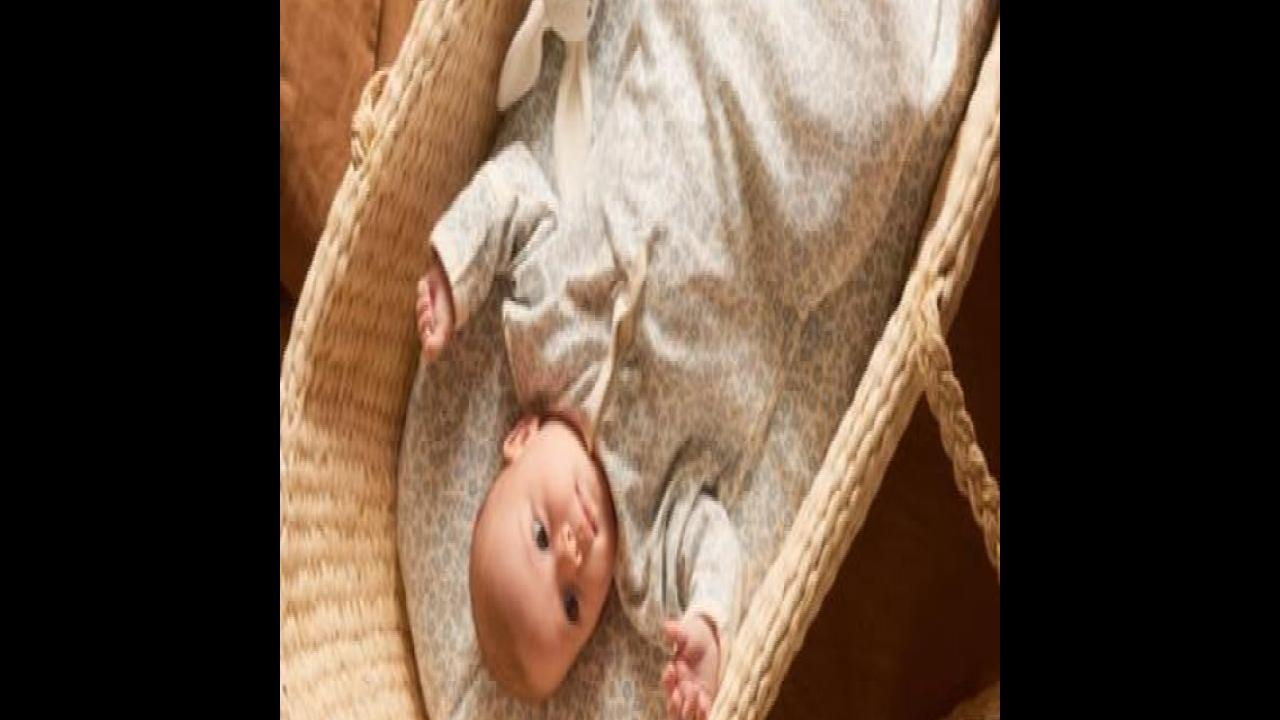hand: (660, 623, 717, 720), (417, 253, 452, 360)
